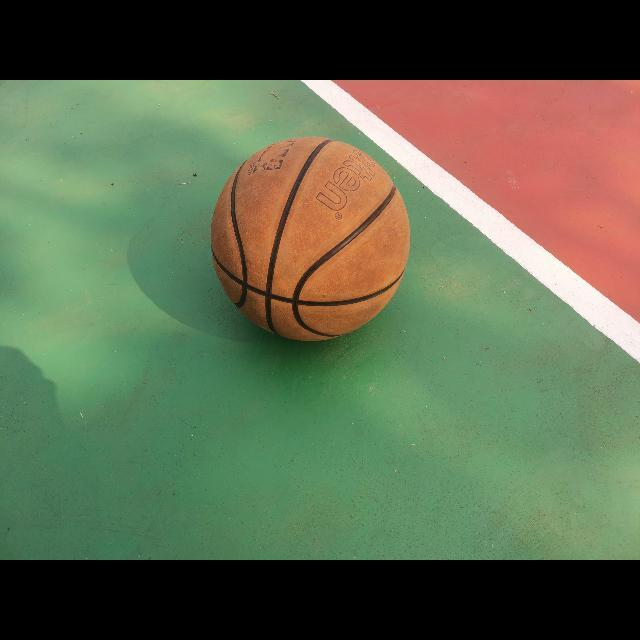basketball: (212, 137, 410, 341)
